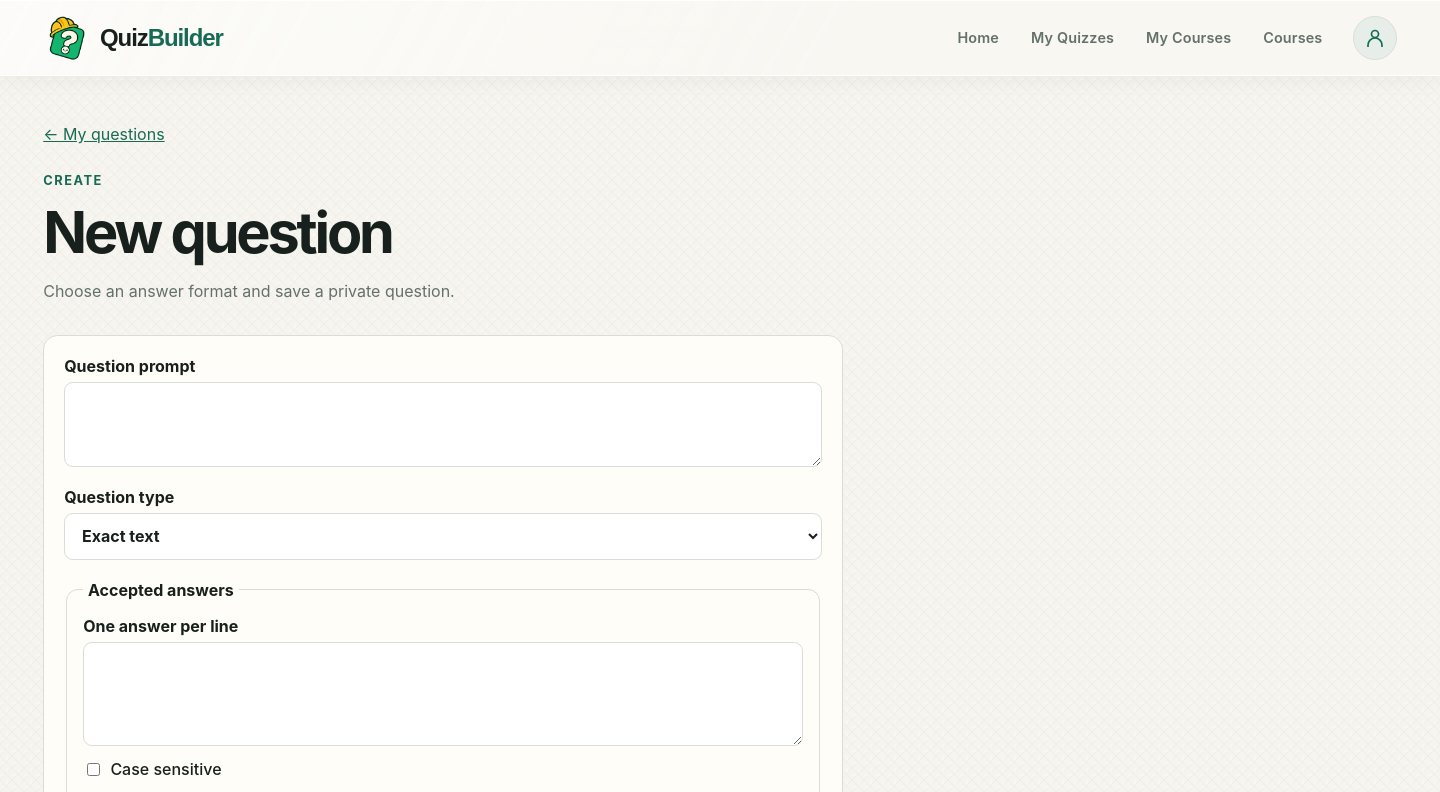
Test: creates private questions without access selectors
Type "Capital of France?" into the text box labelled "Question prompt" at (443, 425), box [64,382,822,467]
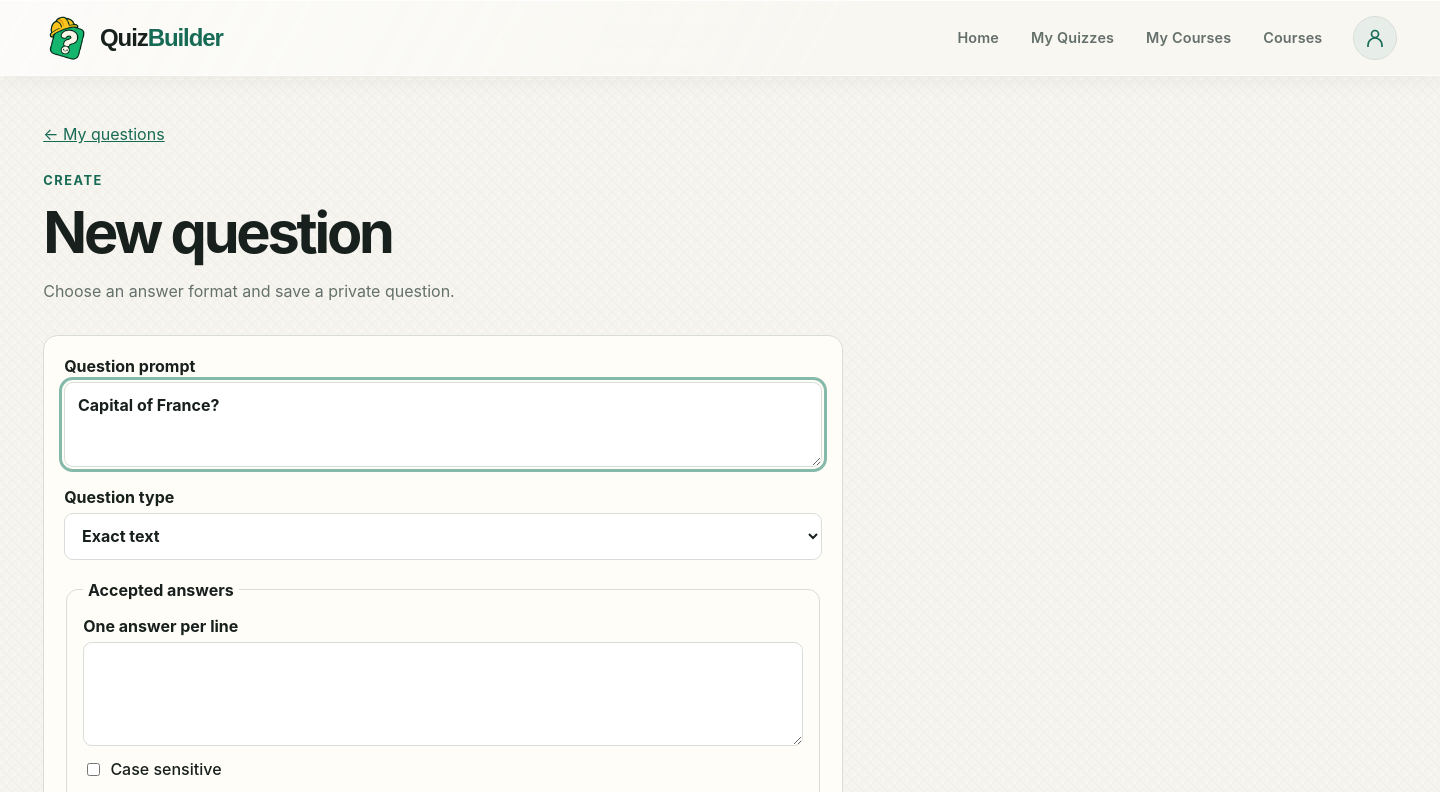
Type "Paris" into the text box labelled "One answer per line" at (443, 694), box [83,642,803,746]
(page scrolled)
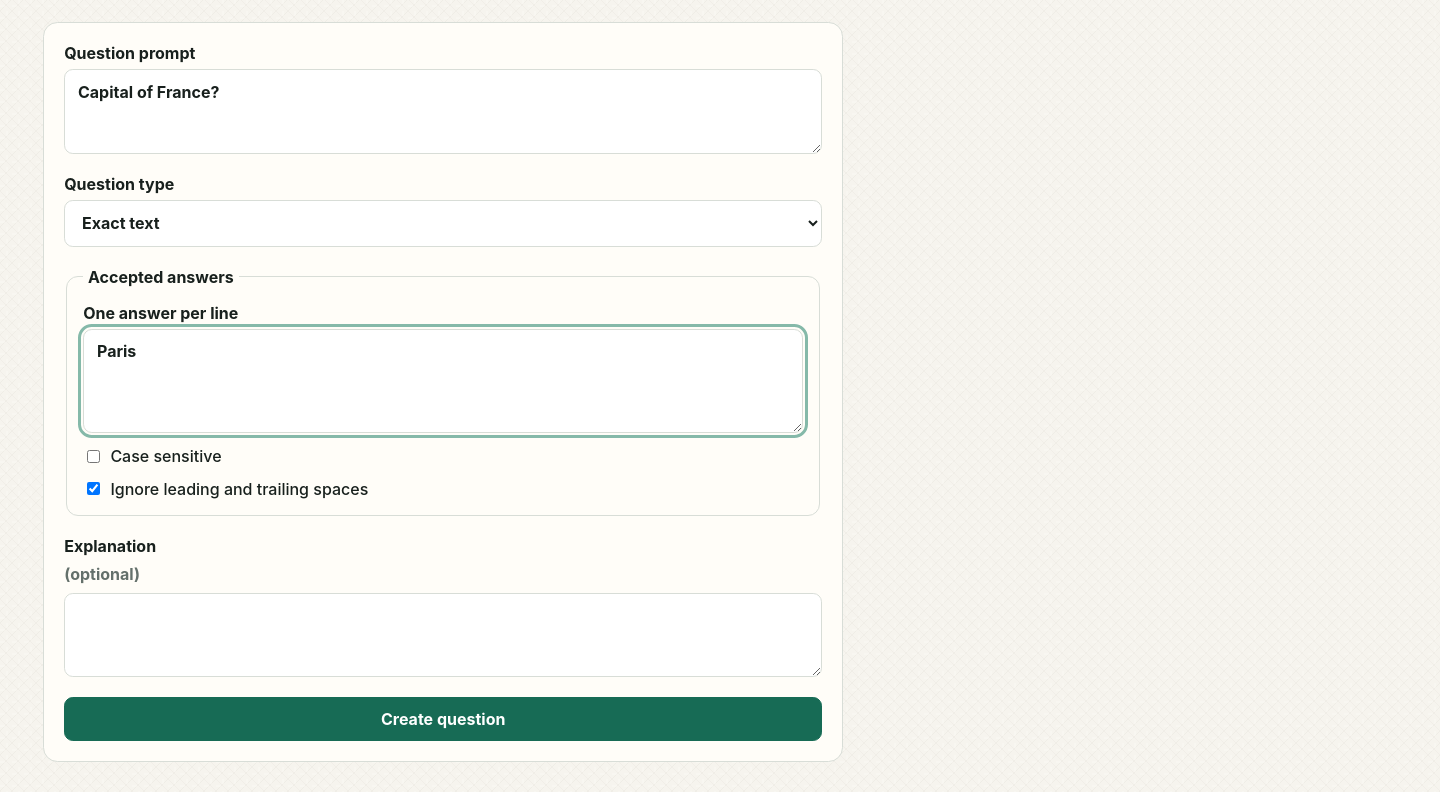
Click the button "Create question" at (443, 719), box [64,697,822,741]
(page scrolled)
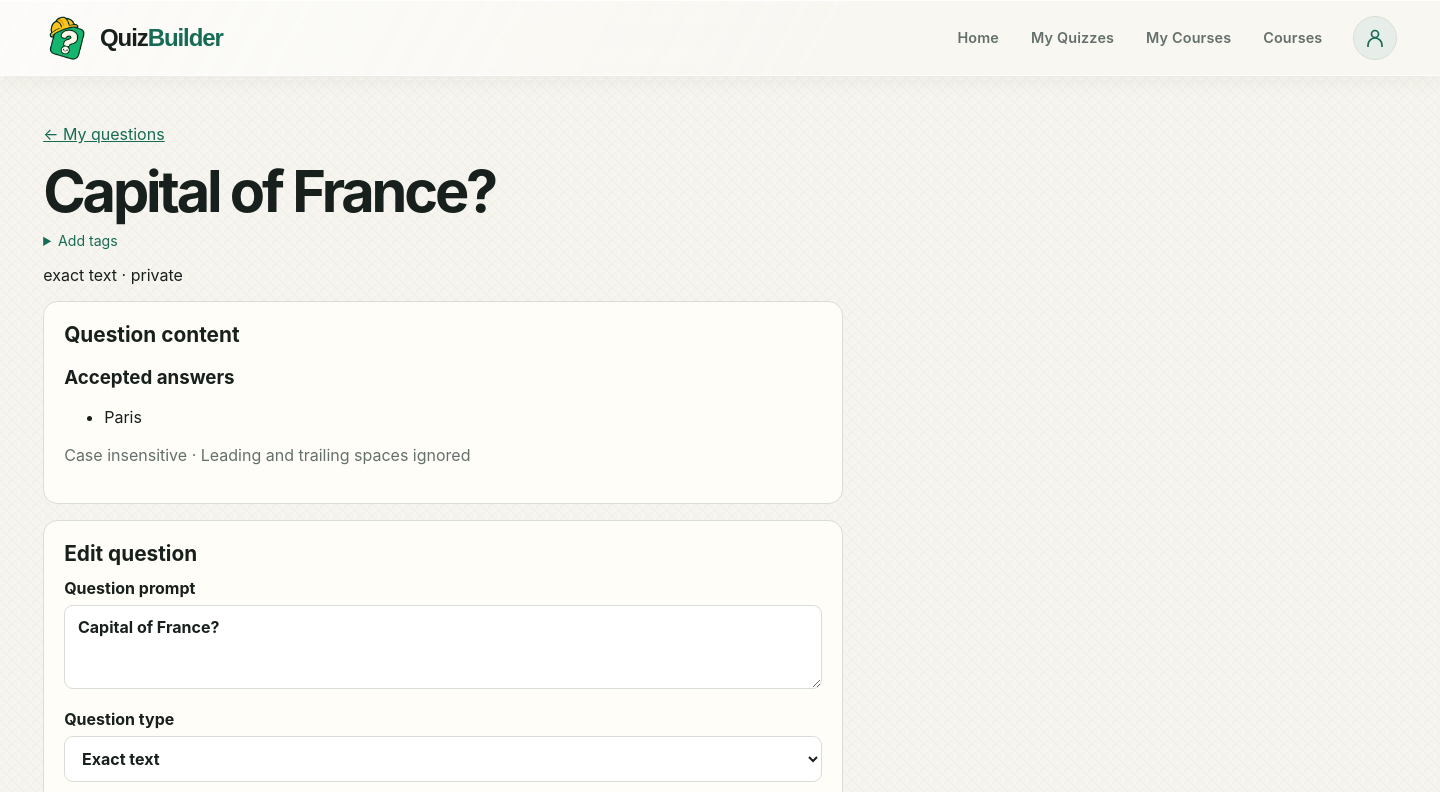
expect the heading "Capital of France?" is shown: met, box [43,156,495,226]
